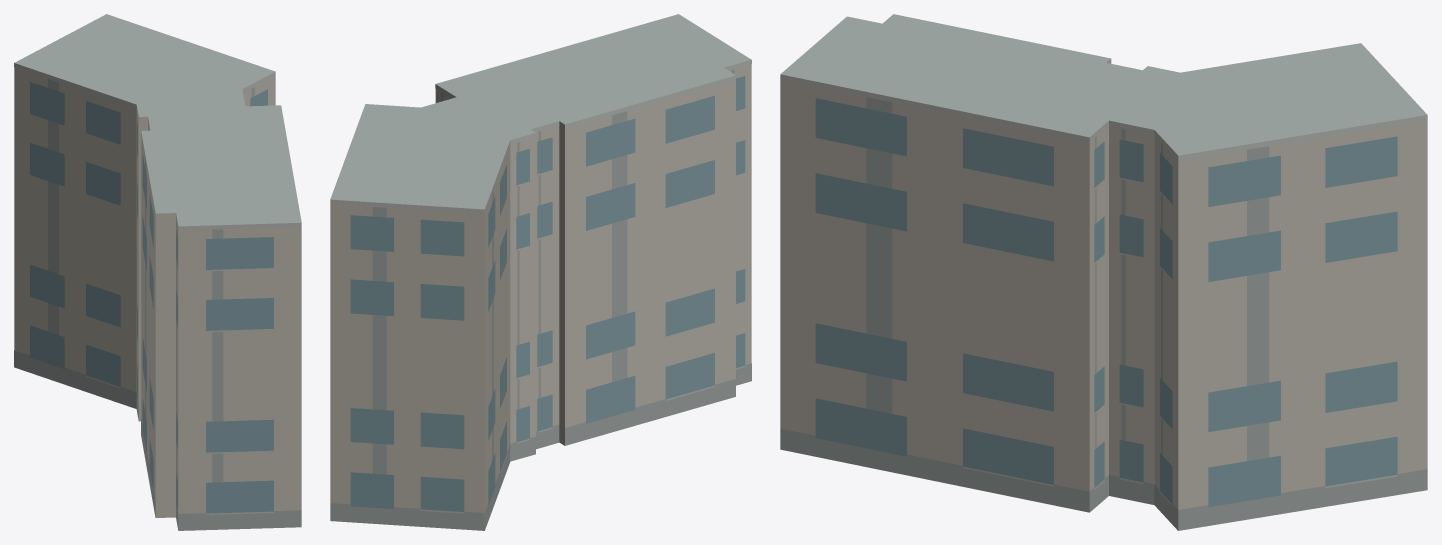
The model's file is survey-upis-32543933.glb.
The picture shows the model from 3 angles, left to right: view 1: azimuth 30°, elevation 25°; view 2: azimuth 150°, elevation 25°; view 3: azimuth 270°, elevation 25°; orthographic projection. The views are drawn at different scales.
Parts seen in each view (by area): view 1: survey-upis-32543933.tmp; view 2: survey-upis-32543933.tmp; view 3: survey-upis-32543933.tmp.
Part boxes in pixels (box(x1,y1,x2,y2)): survey-upis-32543933.tmp: box(14, 14, 301, 530); survey-upis-32543933.tmp: box(330, 14, 751, 530); survey-upis-32543933.tmp: box(780, 14, 1427, 530).
Size of the model in its own units: 14.02 by 17.31 by 27.07.
